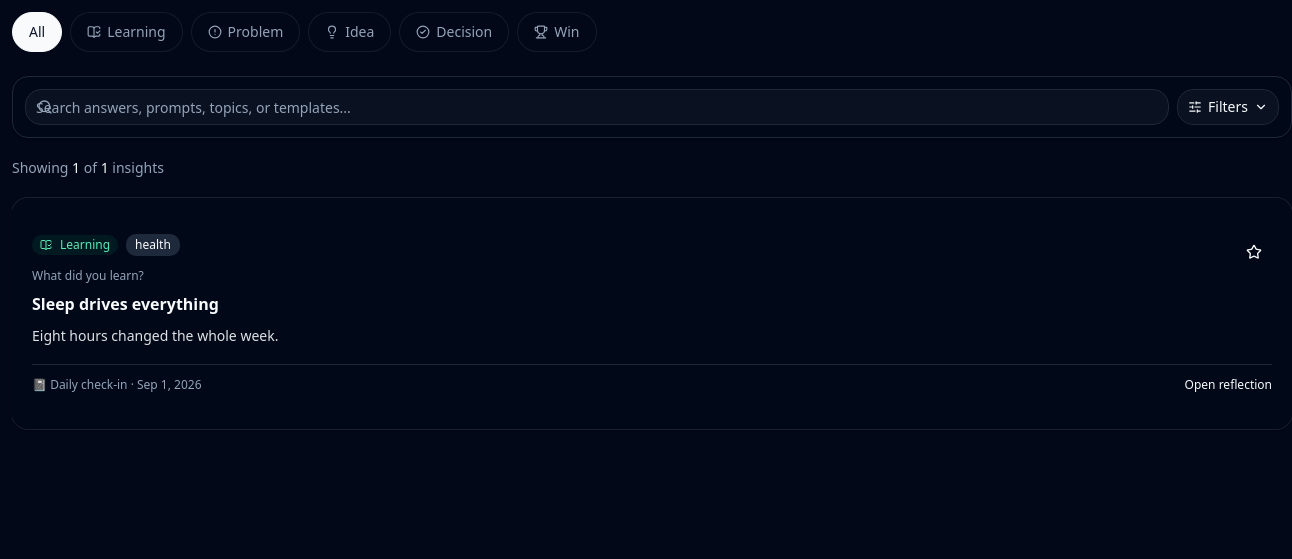
it: JournalInsights filters › counts only what the panel hides, not what is already on screen
Type "sleep" into the search field. click: coordinates (597, 107)
box: [25, 89, 1169, 125]
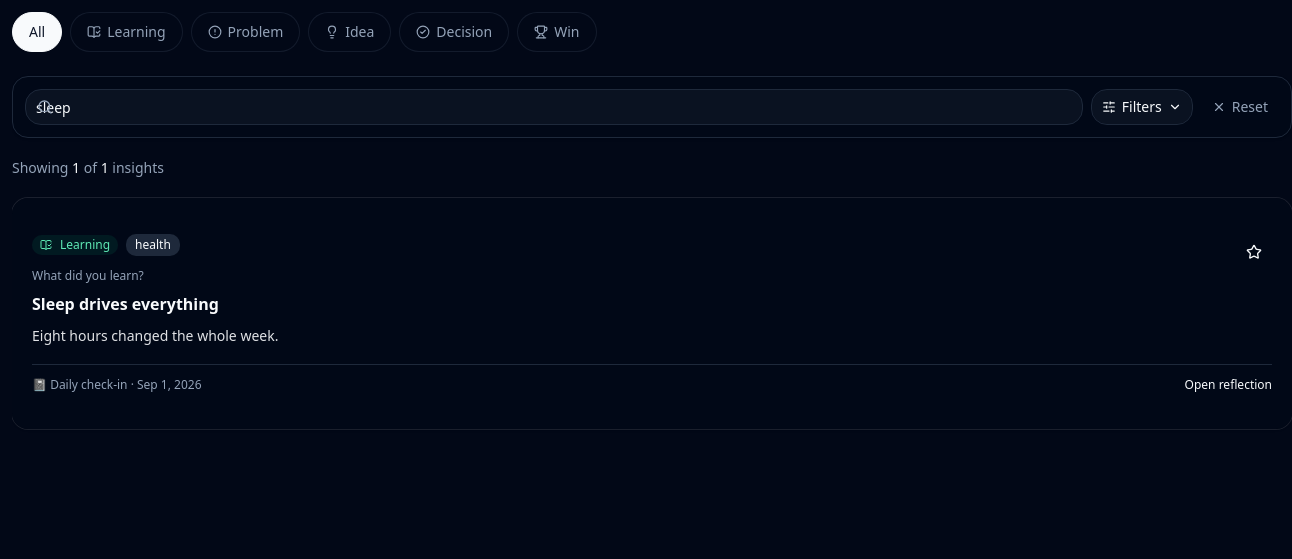
Click the tab "Learning". click: coordinates (126, 32)
box: [70, 12, 183, 52]
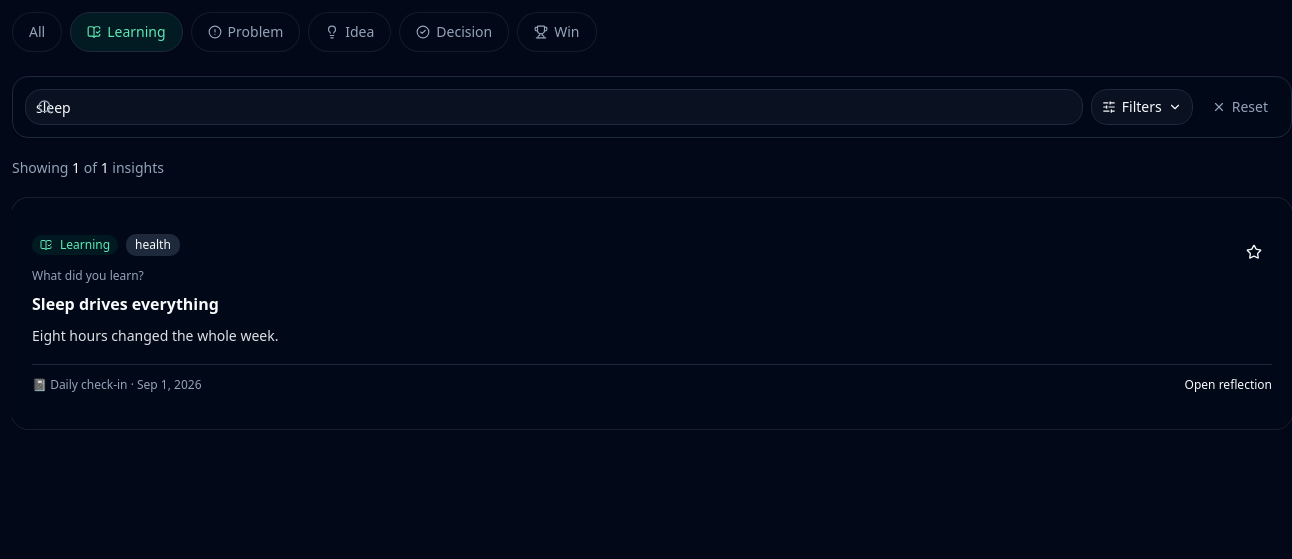
Click the button "Filters". click: coordinates (1142, 107)
box: [1091, 89, 1193, 125]
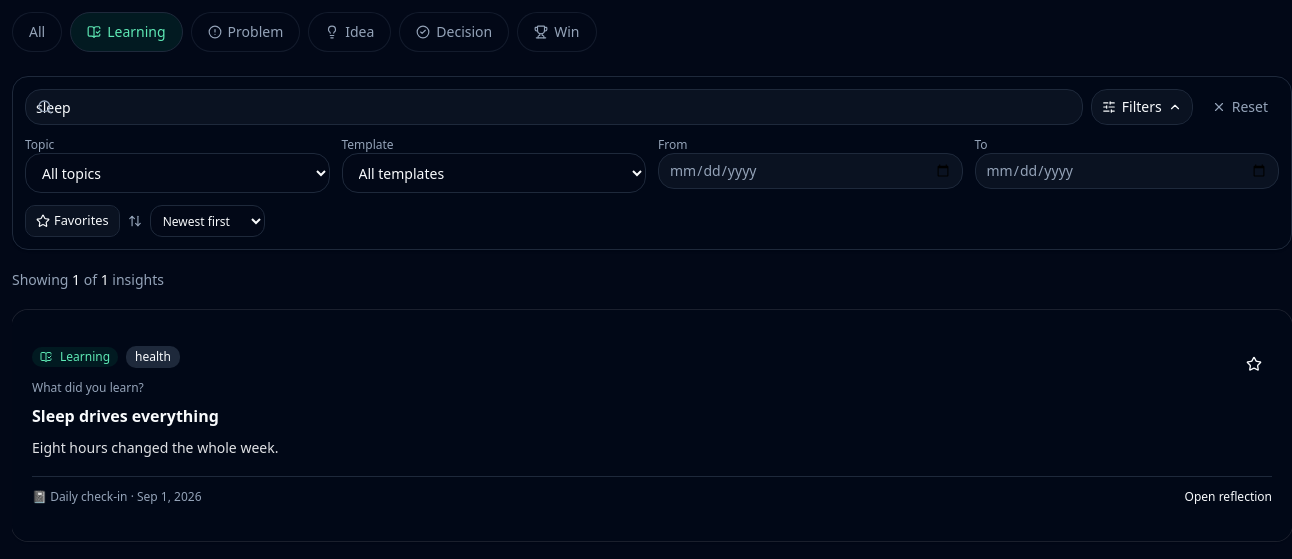
Select "health" in the dropdown labelled "Topic". click: coordinates (177, 173)
box: [25, 153, 330, 193]
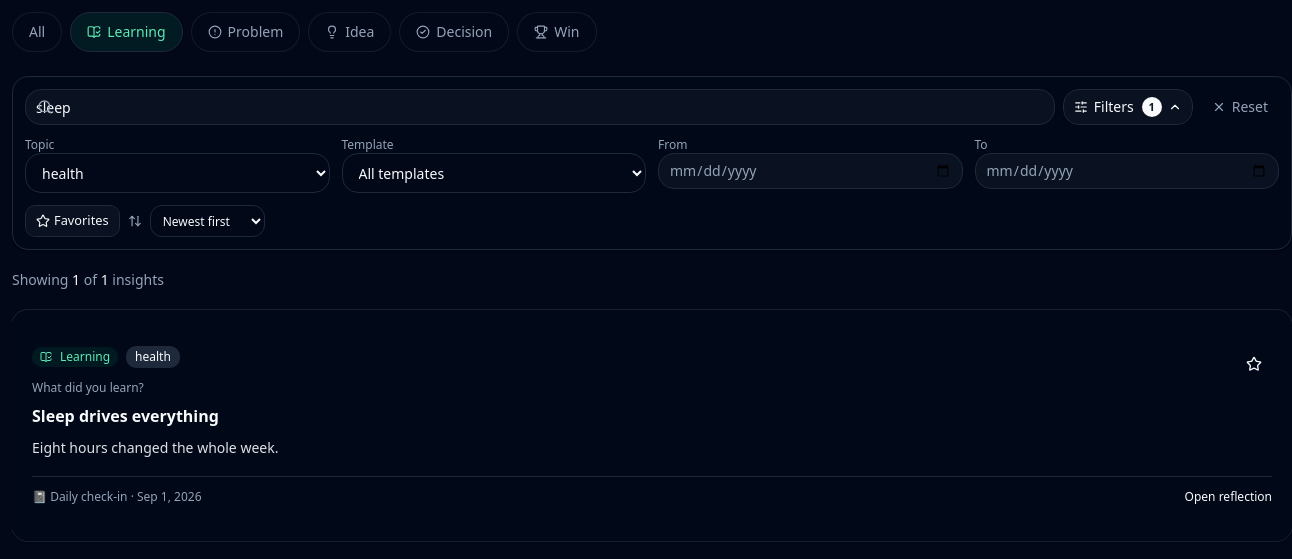
Expected: the button "Filters 1" is shown, [1063, 89, 1193, 125]
